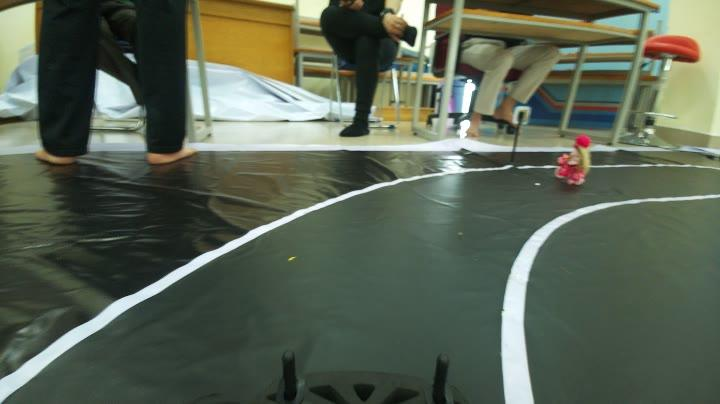pedestrian: (554, 130, 596, 192)
